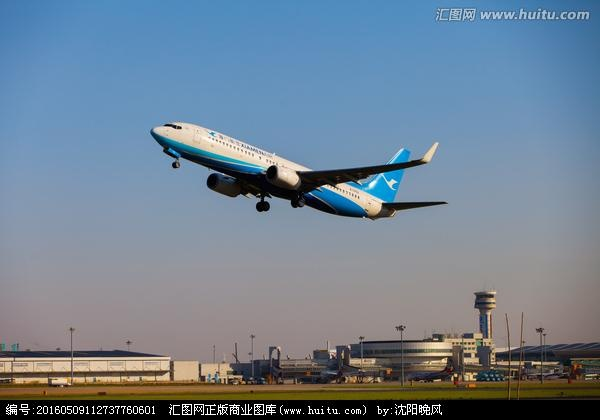airplane: (148, 113, 450, 221)
